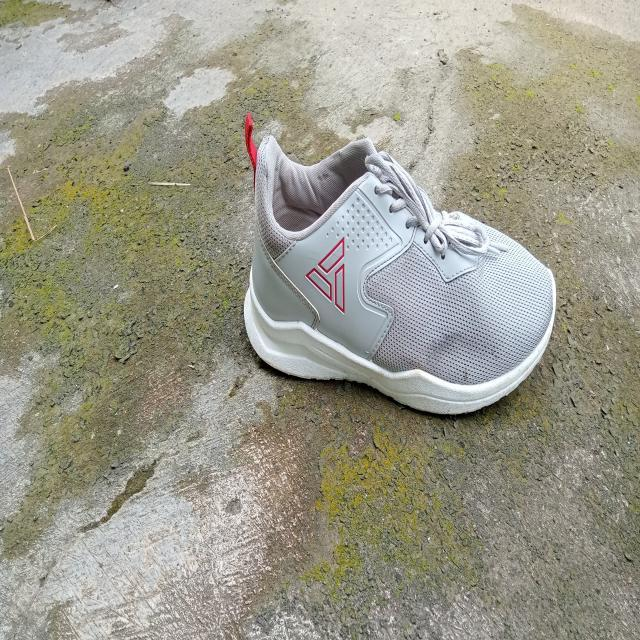shoe: (242, 114, 558, 420)
